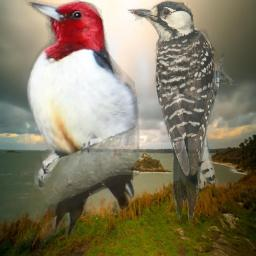Woodpecker: (21, 0, 144, 245), (127, 0, 238, 225)
